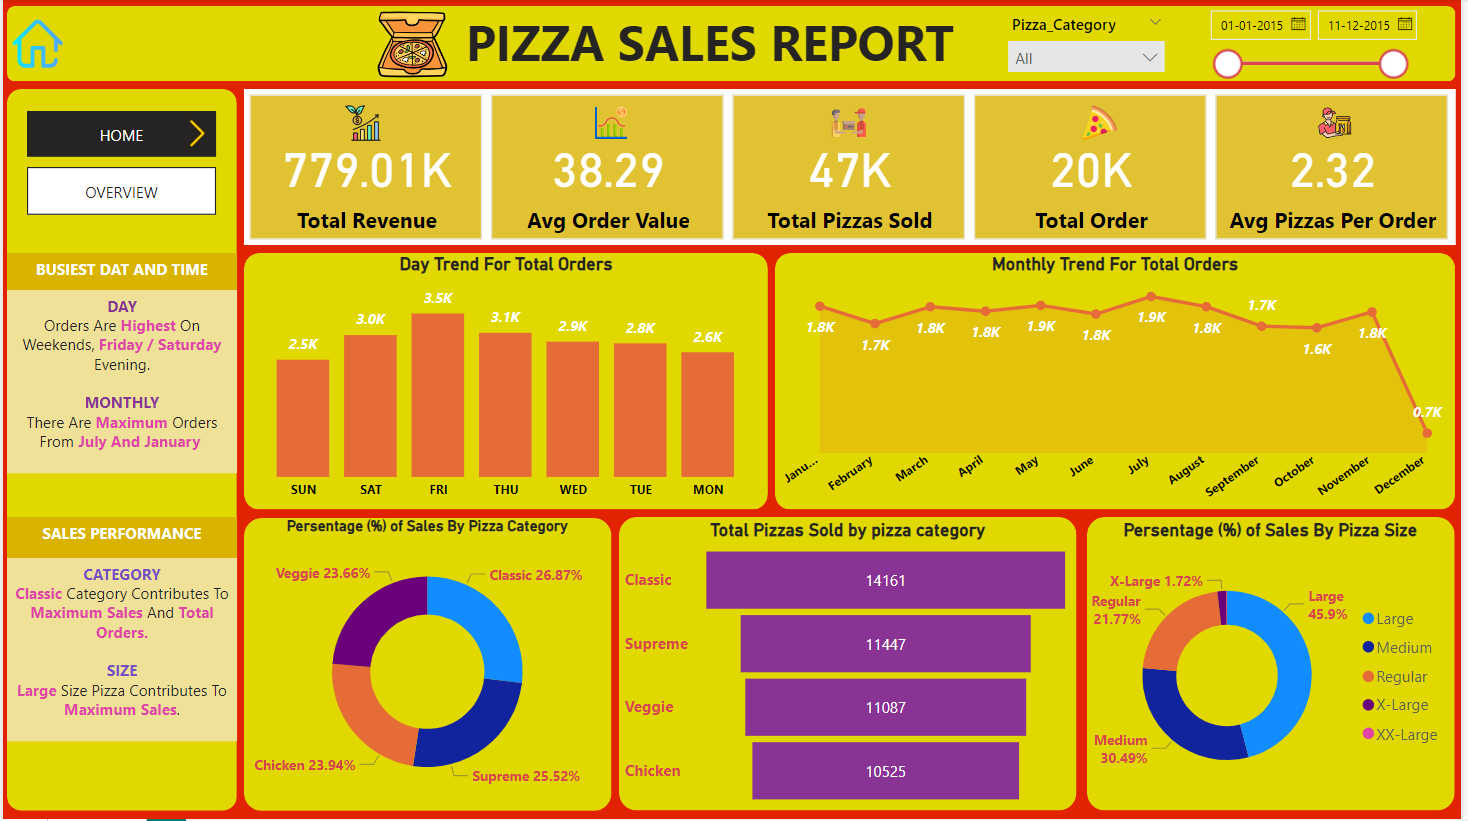

What the dashboard file says about the page in this screenshot:
{"tool":"powerbi","page":{"name":"HOME","canvas":[1280,720],"ordinal":0},"visuals":[{"type":"shape","box":[3.6,6.4,1271.8,66.4],"z":0},{"type":"shape","box":[3.6,79.1,201.8,633.6],"z":1000},{"type":"shape","box":[211.8,79.1,1063.6,137.3],"z":2000},{"type":"shape","box":[211.8,222.7,460,225.5],"z":3000},{"type":"shape","box":[678.2,222.7,597.3,225.5],"z":4000},{"type":"shape","box":[211.8,455.5,322.7,257.3],"z":5000},{"type":"shape","box":[540.8,455.2,401.7,257.8],"z":6000},{"type":"shape","box":[952.2,455.2,322.9,257.8],"z":7000},{"type":"textbox","box":[400.9,3.6,515.5,72.7],"z":8000},{"type":"image","box":[323.6,4.5,70.9,70.9],"z":9000},{"type":"cardVisual","fields":{"Data":["pizza_sales.Total Revenue","pizza_sales.Avg Order Value","pizza_sales.Total Pizzas Sold","pizza_sales.Total Order","pizza_sales.Avg Pizzas Per Order"]},"box":[211.8,79.1,1063.6,137.3],"z":10000},{"type":"image","box":[295.5,87.3,41.8,43.6],"z":11000},{"type":"image","box":[513.6,89.1,40.9,40],"z":12000},{"type":"image","box":[722.7,89.1,40.9,40],"z":13000},{"type":"image","box":[942.7,89.1,40.9,40],"z":14000},{"type":"image","box":[1149.1,89.1,40.9,40],"z":15000},{"type":"donutChart","title":"Persentage (%) of Sales By Pizza Category","fields":{"Category":["pizza_sales.pizza_category"],"Y":["Sum(pizza_sales.total_price)"]},"box":[212,455.2,321.9,256.8],"z":16000},{"type":"donutChart","title":"Persentage (%) of Sales By Pizza Size","fields":{"Y":["Sum(pizza_sales.total_price)"],"Category":["pizza_sales.pizza_size"]},"box":[952.2,456.2,321.9,256.8],"z":17000},{"type":"funnel","title":"Total Pizzas Sold by pizza category","fields":{"Category":["pizza_sales.pizza_category"],"Y":["pizza_sales.Total Pizzas Sold"]},"box":[540.8,456.2,401.7,256.8],"z":18000},{"type":"areaChart","title":"Monthly Trend For Total Orders","fields":{"Y":["pizza_sales.Total Order"],"Category":["pizza_sales.order_date.Variation.Date Hierarchy.Month"]},"box":[677.9,223,597.1,225.7],"z":19000},{"type":"columnChart","title":"Day Trend For Total Orders","fields":{"Category":["pizza_sales.Order Day"],"Y":["pizza_sales.Total Order"]},"box":[212,222.7,460.1,225.7],"z":20000},{"type":"slicer","fields":{"Values":["pizza_sales.pizza_category"]},"box":[872.8,7.9,157.2,65],"z":21000},{"type":"slicer","fields":{"Values":["pizza_sales.order_date"]},"box":[1047.5,0,203.7,72.9],"z":22000},{"type":"textbox","box":[3.5,223,202,36],"z":23000},{"type":"textbox","box":[3.5,255.5,202,160.7],"z":24000},{"type":"textbox","box":[3.5,454.8,202,36],"z":25000},{"type":"textbox","box":[3.5,490.8,202,160.7],"z":26000},{"type":"pageNavigator","box":[21.1,98.3,166.8,40.4],"z":26001},{"type":"pageNavigator","box":[21.1,147.5,166.8,42.1],"z":26002},{"type":"image","box":[153.7,101,34.2,34.2],"z":26003},{"type":"image","box":[3.5,12.3,54.4,54.4],"z":26004}]}

Visuals, with their boxes in screenshot pixels (x1, y1, x2, y2), scaled from the page's 1280x720 canvas onto the 1468x821 screenshot:
shape: left=4, top=7, right=1463, bottom=83
shape: left=4, top=90, right=236, bottom=813
shape: left=243, top=90, right=1463, bottom=247
shape: left=243, top=254, right=770, bottom=511
shape: left=778, top=254, right=1463, bottom=511
shape: left=243, top=519, right=613, bottom=813
shape: left=620, top=519, right=1081, bottom=813
shape: left=1092, top=519, right=1462, bottom=813
textbox: left=460, top=4, right=1051, bottom=87
image: left=371, top=5, right=452, bottom=86
cardVisual - pizza_sales.Total Revenue x pizza_sales.Avg Order Value: left=243, top=90, right=1463, bottom=247
image: left=339, top=100, right=387, bottom=149
image: left=589, top=102, right=636, bottom=147
image: left=829, top=102, right=876, bottom=147
image: left=1081, top=102, right=1128, bottom=147
image: left=1318, top=102, right=1365, bottom=147
"Persentage (%) of Sales By Pizza Category" donutChart: left=243, top=519, right=612, bottom=812
"Persentage (%) of Sales By Pizza Size" donutChart: left=1092, top=520, right=1461, bottom=813
"Total Pizzas Sold by pizza category" funnel: left=620, top=520, right=1081, bottom=813
"Monthly Trend For Total Orders" areaChart: left=777, top=254, right=1462, bottom=512
"Day Trend For Total Orders" columnChart: left=243, top=254, right=771, bottom=511
slicer - pizza_sales.pizza_category: left=1001, top=9, right=1181, bottom=83
slicer - pizza_sales.order_date: left=1201, top=0, right=1435, bottom=83
textbox: left=4, top=254, right=236, bottom=295
textbox: left=4, top=291, right=236, bottom=475
textbox: left=4, top=519, right=236, bottom=560
textbox: left=4, top=560, right=236, bottom=743
pageNavigator: left=24, top=112, right=215, bottom=158
pageNavigator: left=24, top=168, right=215, bottom=216
image: left=176, top=115, right=215, bottom=154
image: left=4, top=14, right=66, bottom=76
